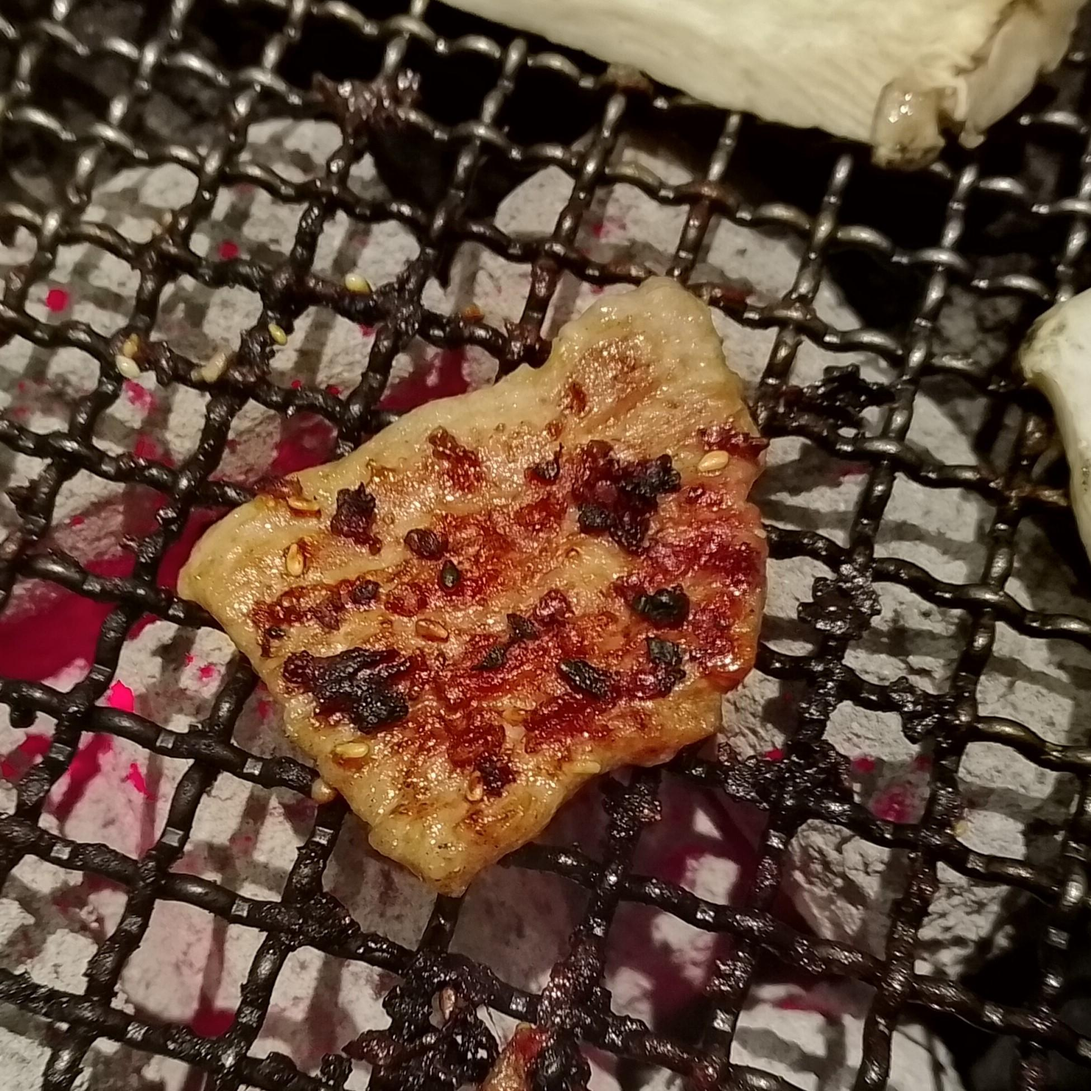Overcooked: (173, 280, 770, 901)
